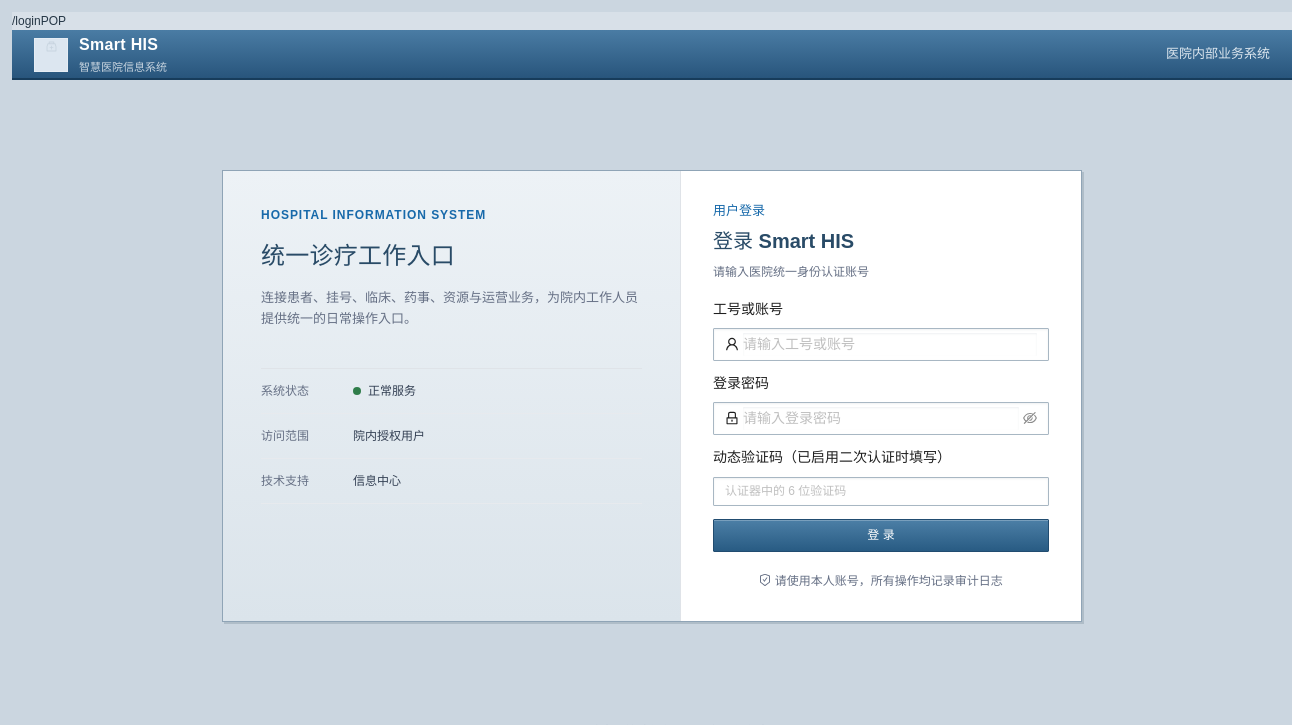
Test case: LoginPage › validates missing both credentials without attempting login
The image size is (1292, 725).
Click the button "登 录" at (881, 535), box [713,519,1049,552]
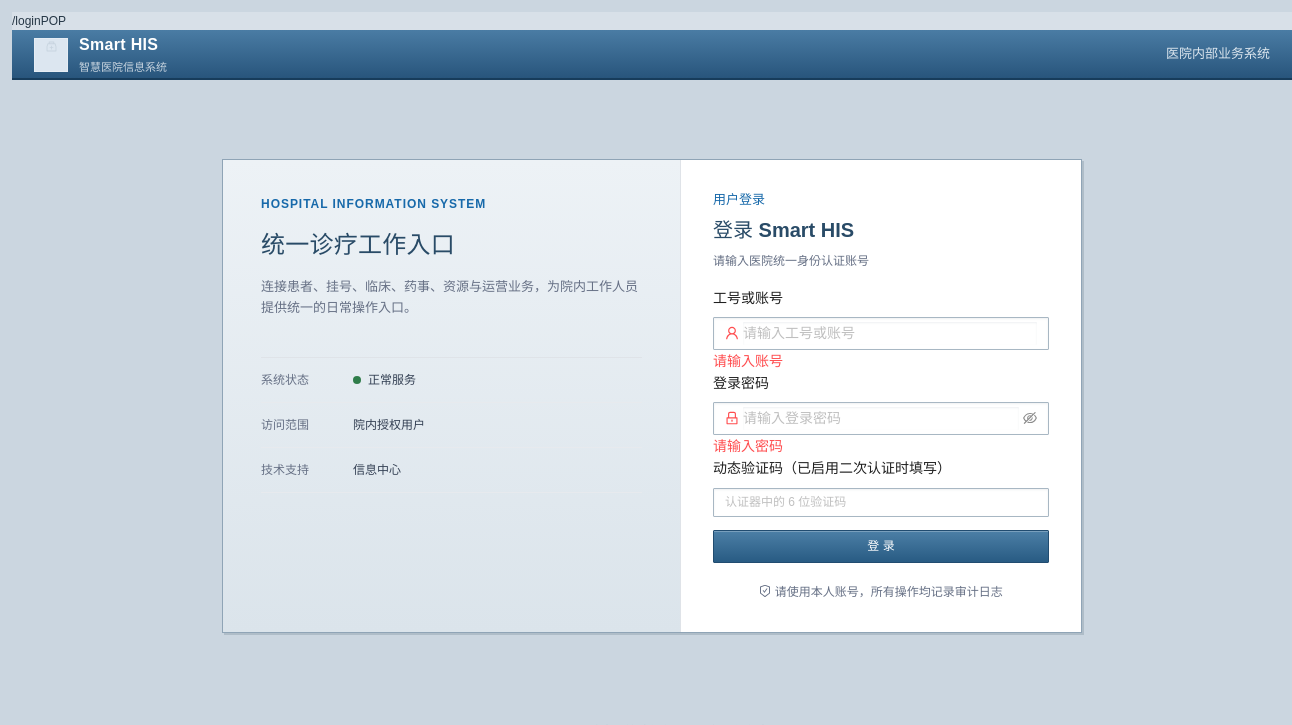
Check: the text named "当前路径" reads "/login", box [12,14,41,28]
Check: the text "请输入账号" is shown, box [713,352,783,369]
Check: the text "请输入密码" is shown, box [713,437,783,454]
